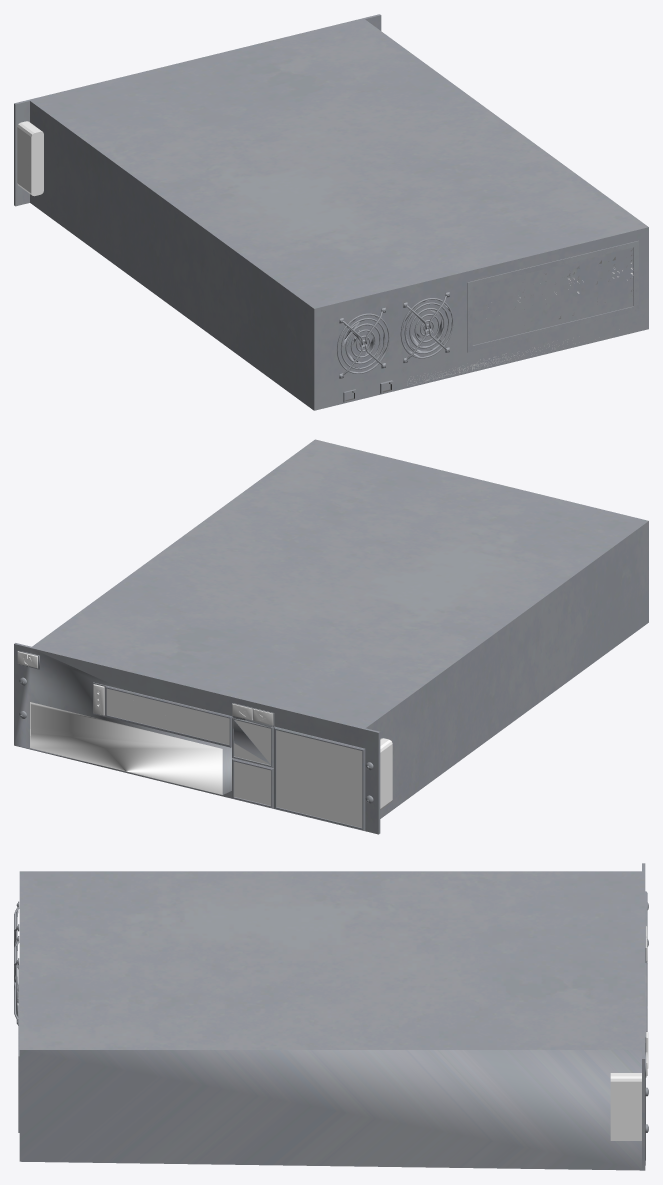
File: Server.System.3u.glb
The picture shows the model from 3 angles, top to bottom: view 1: azimuth 30°, elevation 25°; view 2: azimuth 150°, elevation 25°; view 3: azimuth 270°, elevation 25°; orthographic projection. The views are drawn at different scales.
Parts seen in each view (by area): view 1: Server.Yellow1; view 2: Server.Yellow1; view 3: Server.Yellow1.
Boxes of the visible parts, x1,y1,x2,y2 form: Server.Yellow1: (14, 14, 648, 410); Server.Yellow1: (14, 439, 648, 834); Server.Yellow1: (14, 863, 648, 1170).
Size of what is drawn, in the model's own units: 0.4983 by 0.1327 by 0.684.
Materials: 7 (3 with a texture image).
